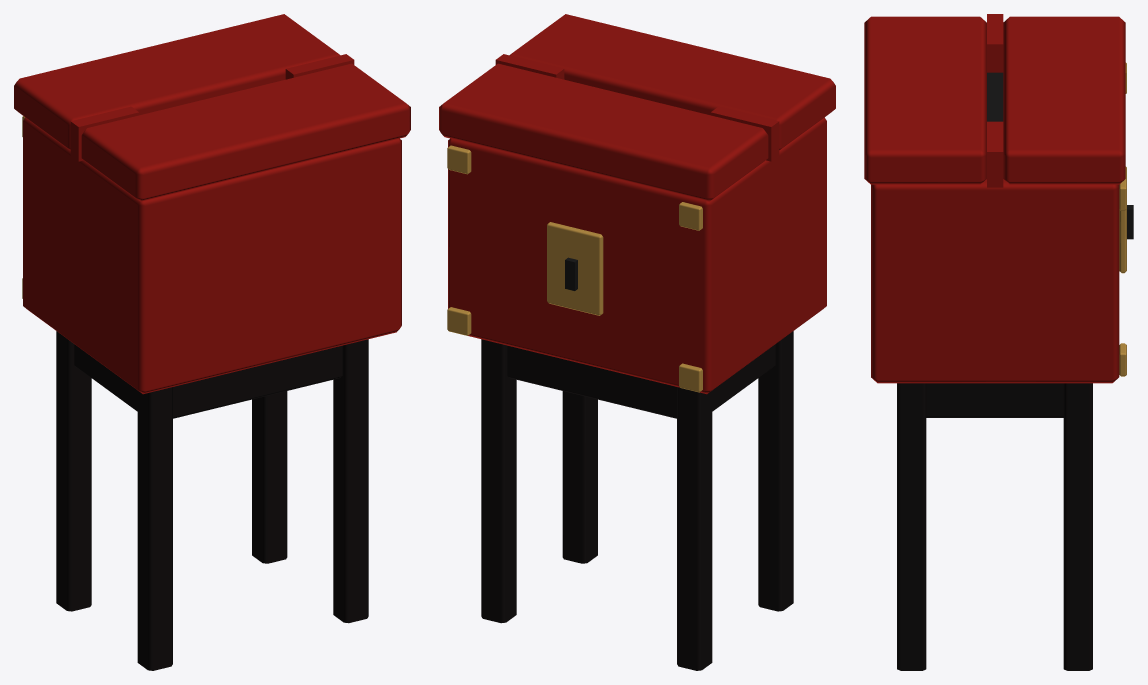
Rendered from offering_box.glb.
The picture shows the model from 3 angles, left to right: view 1: azimuth 30°, elevation 25°; view 2: azimuth 150°, elevation 25°; view 3: azimuth 270°, elevation 25°; orthographic projection. The views are drawn at different scales.
Visible parts, largest first — view 1: OfferingBox; view 2: OfferingBox; view 3: OfferingBox.
Part boxes in pixels (x1,y1,x2,y2): OfferingBox: (14, 14, 410, 670); OfferingBox: (439, 14, 835, 670); OfferingBox: (864, 14, 1133, 670).
Size of what is drawn, in the model's own units: 0.5 by 0.9 by 0.412.
